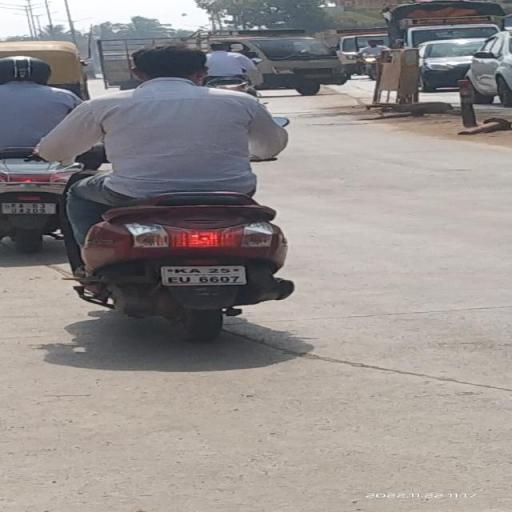bike: (38, 40, 306, 343)
numberplate: (160, 265, 251, 287)
withouthelmet: (134, 46, 206, 80)
